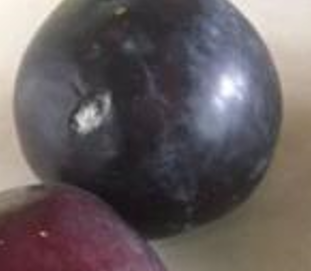plum_B: (12, 1, 283, 241)
